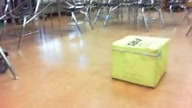cube: (111, 34, 170, 89)
